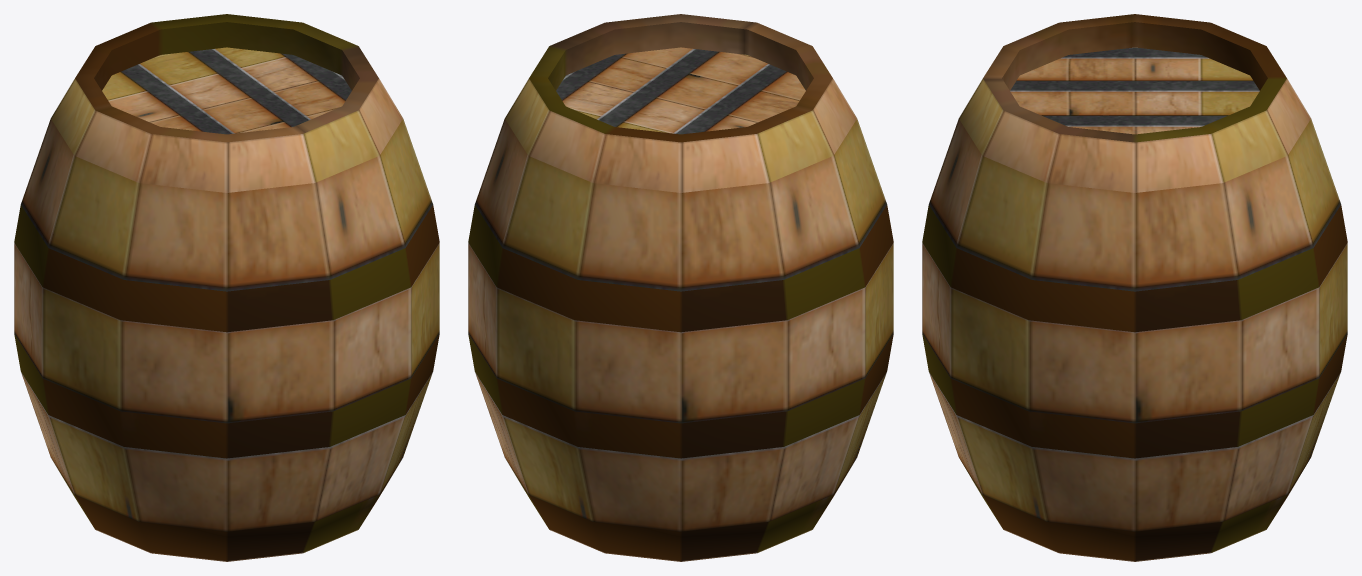
The model's file is barrel.obj.
3 renders of one model, left to right at view 1: azimuth 30°, elevation 25°; view 2: azimuth 150°, elevation 25°; view 3: azimuth 270°, elevation 25°, orthographic.
Visible parts, largest first — view 1: polygon_0, polygon_02; view 2: polygon_0, polygon_02; view 3: polygon_0, polygon_02.
Part boxes in pixels (x1,y1,x2,y2): polygon_0: (14, 119, 439, 531); polygon_02: (14, 14, 439, 561); polygon_0: (468, 119, 893, 531); polygon_02: (468, 14, 893, 561); polygon_0: (922, 119, 1347, 531); polygon_02: (922, 14, 1347, 561).
Size of the model in its own units: 14.4 by 15.66 by 14.4.
